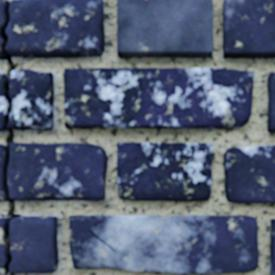brick: (64, 69, 253, 129), (70, 215, 258, 273), (117, 0, 212, 58), (117, 143, 212, 201), (222, 0, 274, 59), (223, 145, 274, 203), (266, 72, 274, 132), (269, 219, 274, 274)
broken_brick: (6, 0, 105, 58), (8, 143, 107, 200), (8, 70, 54, 130), (10, 216, 58, 273), (0, 144, 9, 201), (0, 73, 8, 131), (0, 218, 8, 274), (0, 0, 7, 29), (0, 37, 6, 60)
crack: (0, 1, 21, 273), (89, 229, 115, 251)
